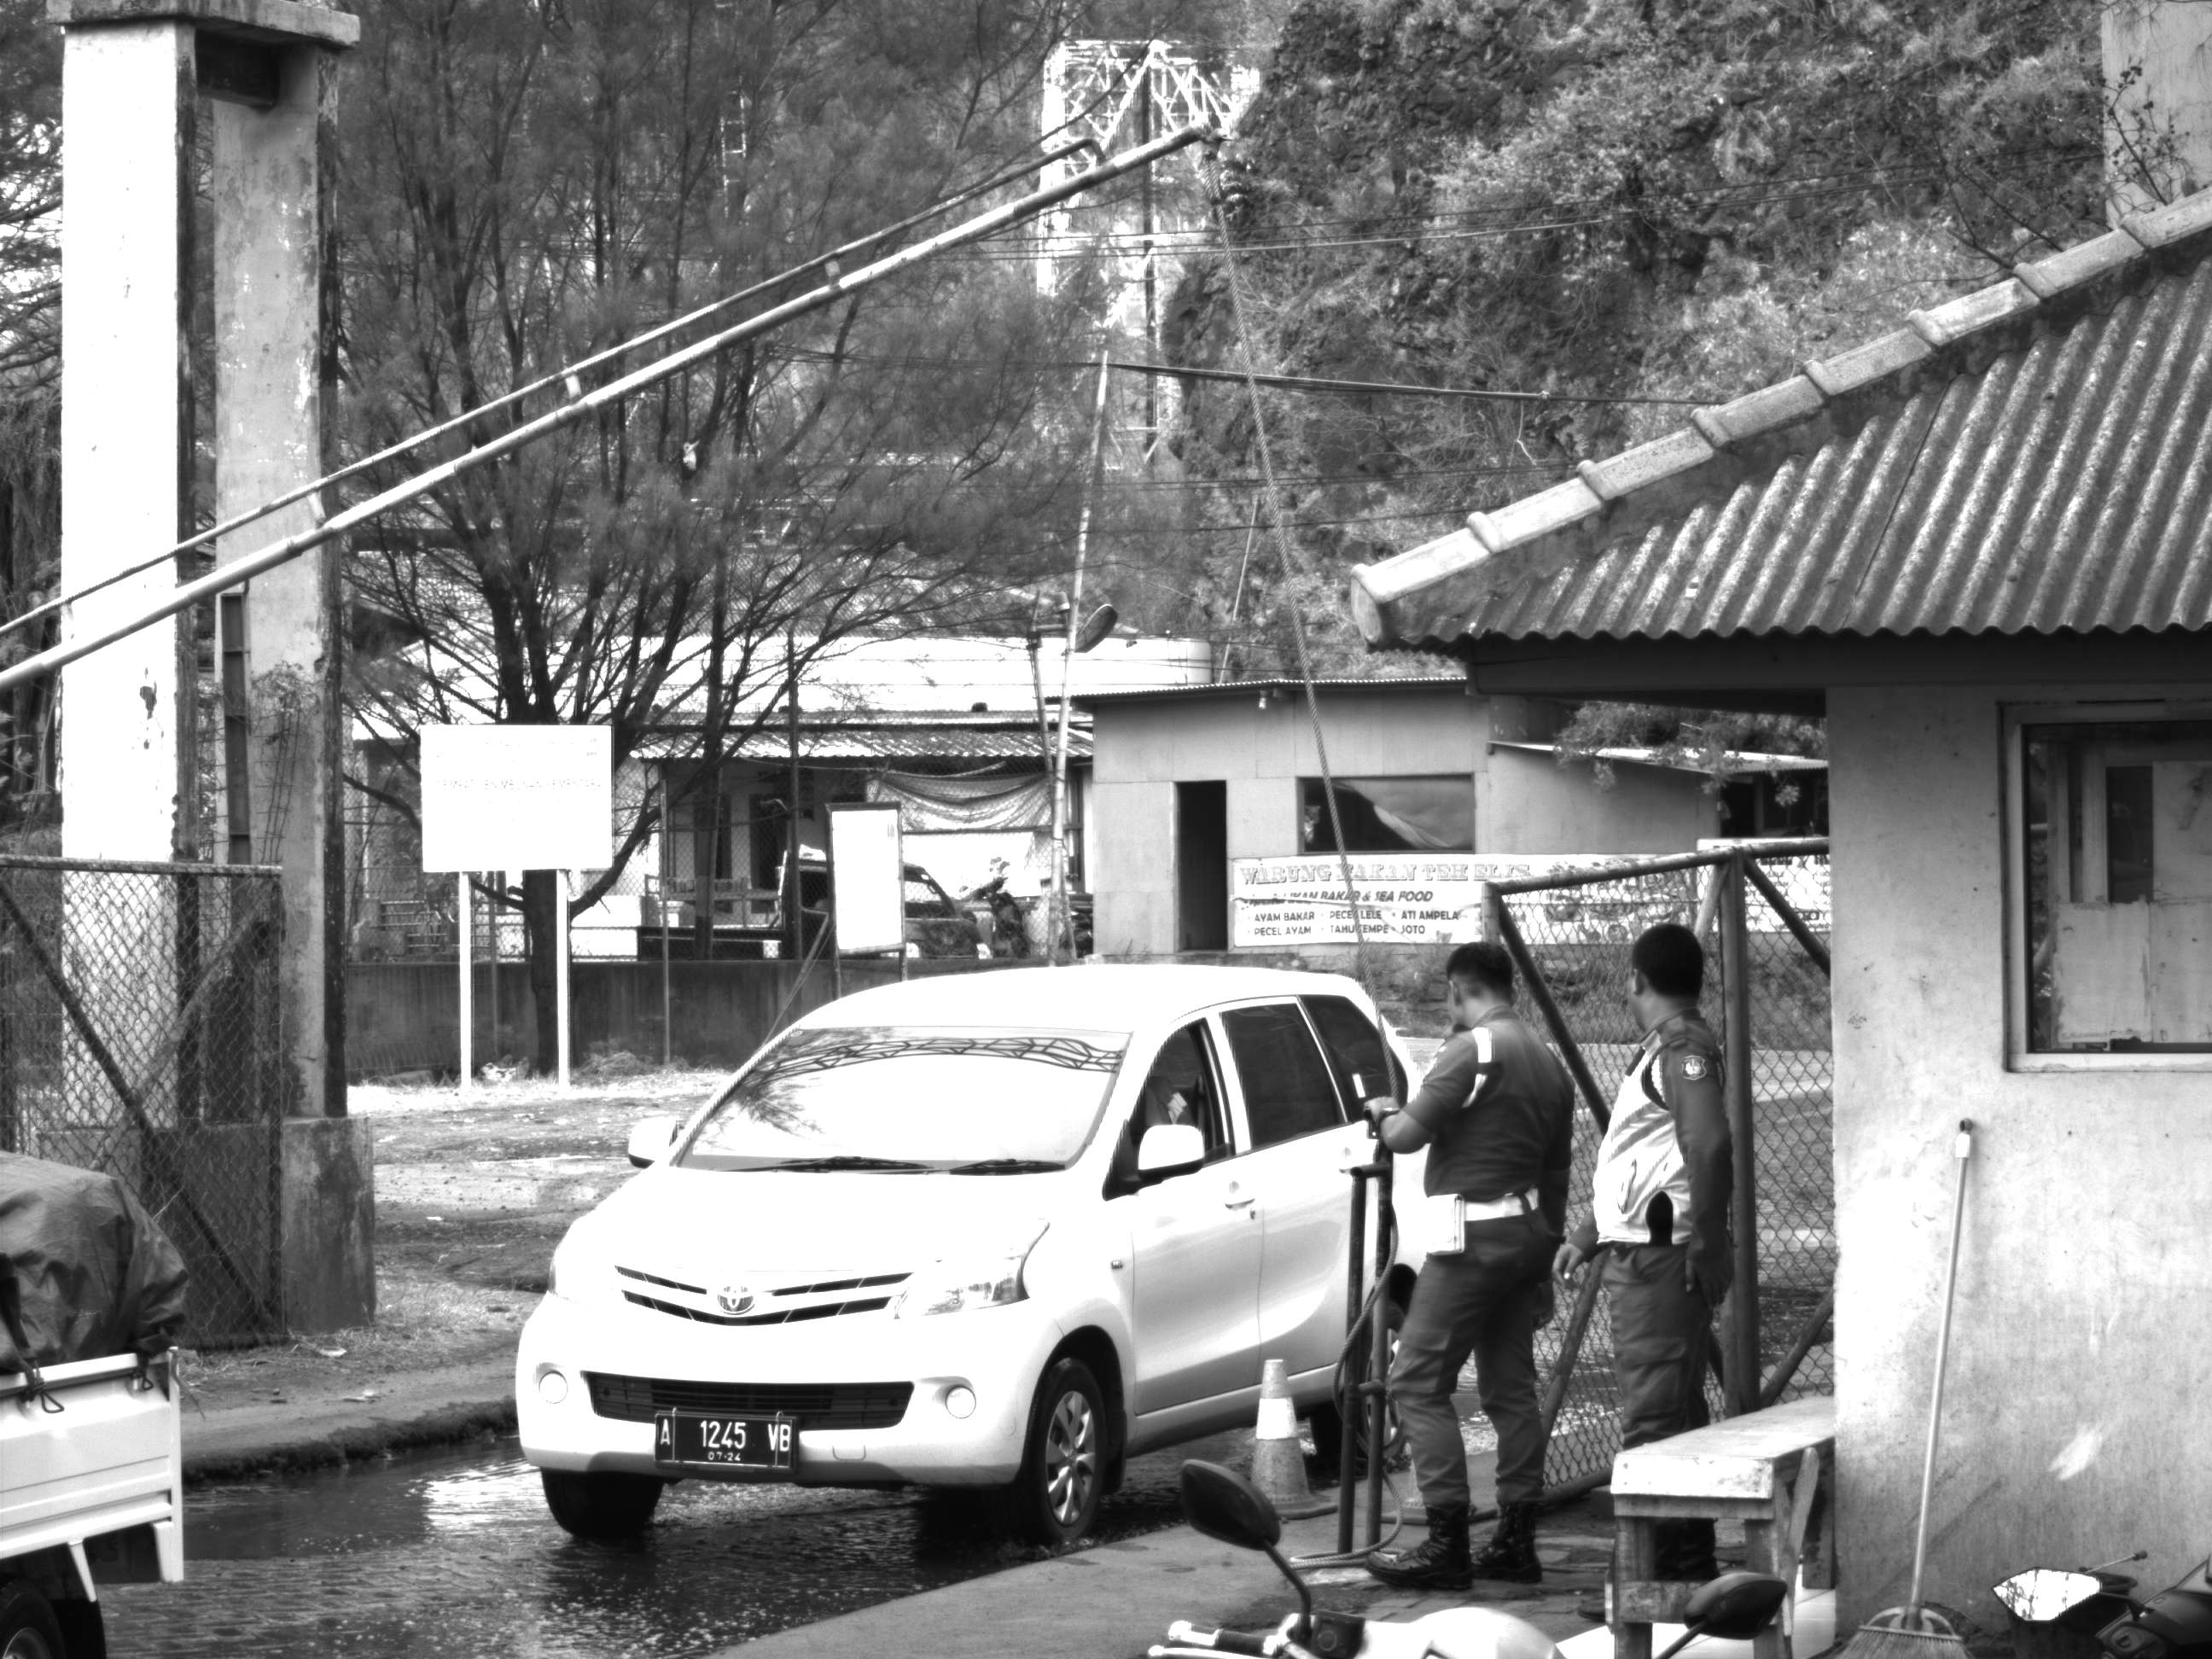day_small_front: (504, 947, 1153, 1558)
plate: (651, 1405, 801, 1478)
